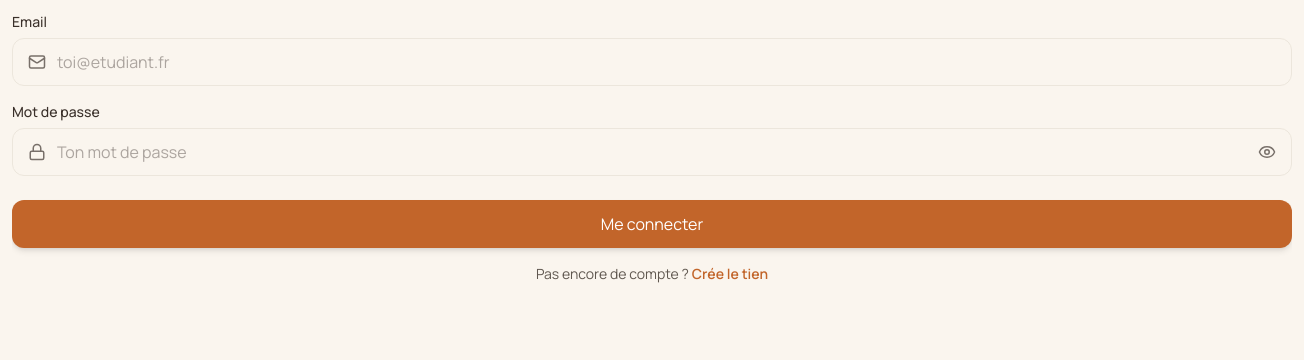
Test: LoginForm › shows authentication errors
The image size is (1304, 360).
In the field labelled "Email": (652, 62) [12,38,1292,86], type "alex@example.com"
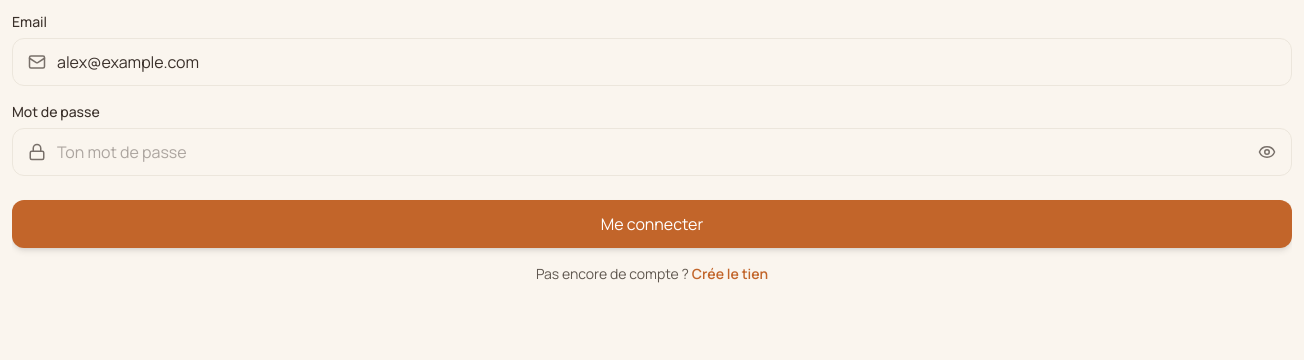
In the password field labelled "Mot de passe": (652, 152) [12,128,1292,176], type "secret123"
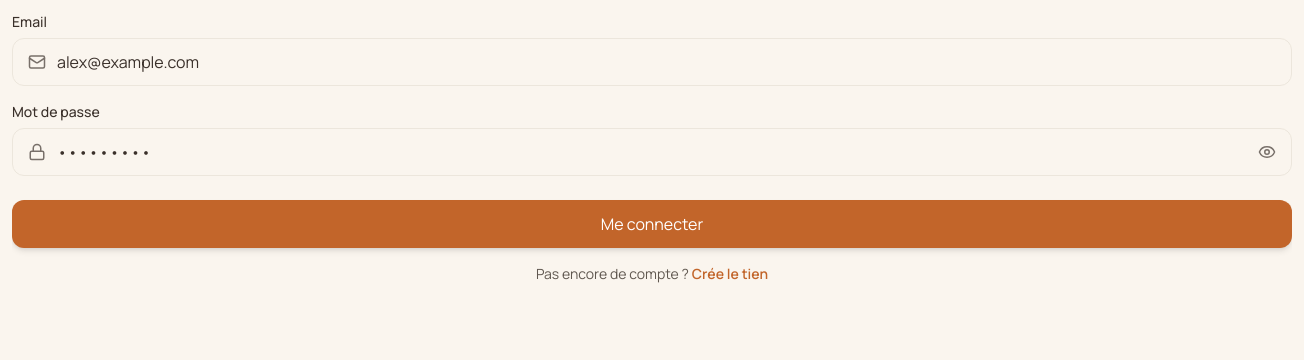
Click the button "Me connecter": (652, 224) [12,200,1292,248]
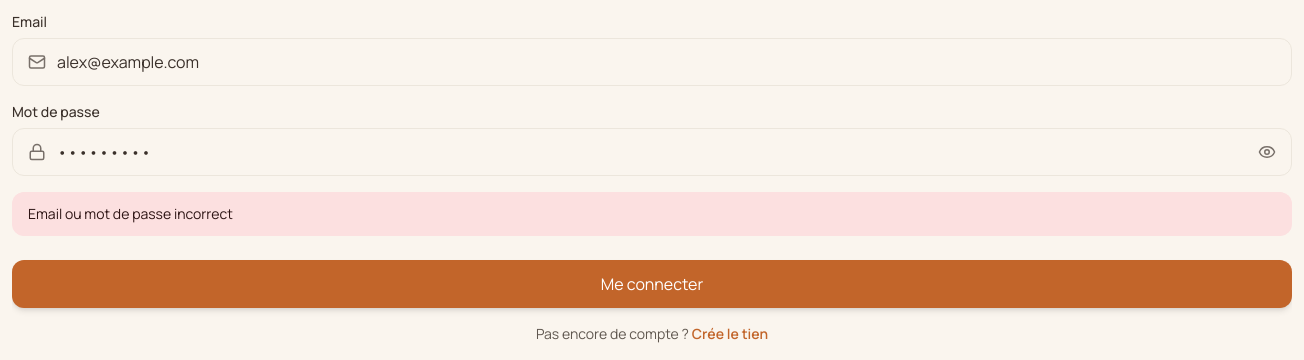
Expected: the message reads "Email ou mot de passe incorrect", [28,204,233,223]
